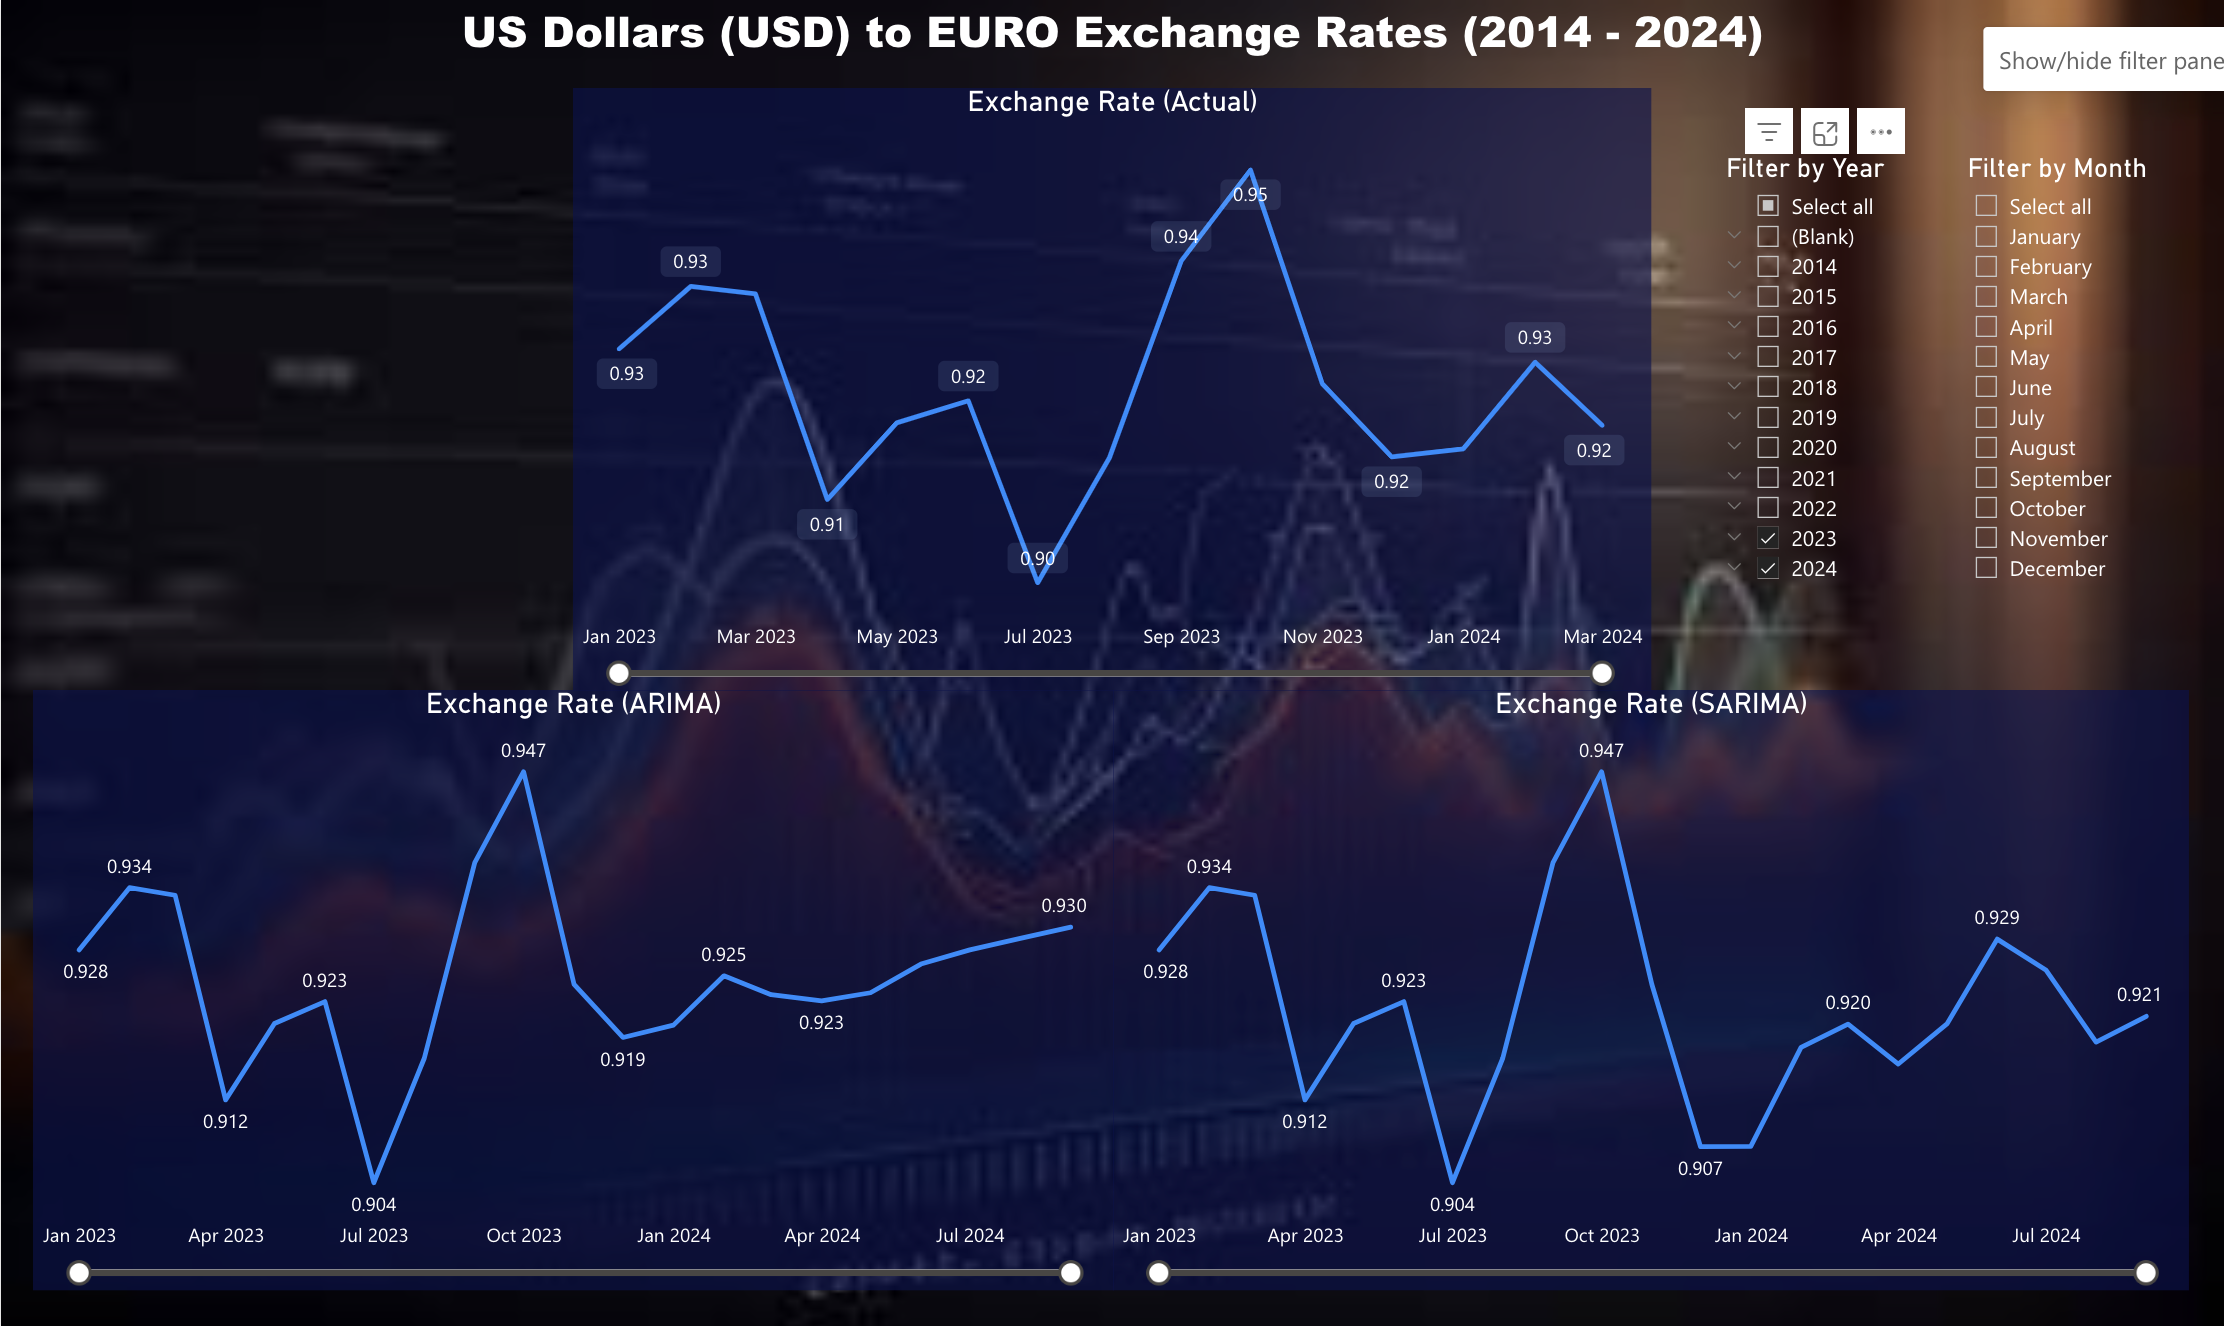

The dashboard page shown, as its layout file describes it:
{"tool":"powerbi","page":{"name":"Euro","canvas":[1400,840],"ordinal":1},"visuals":[{"type":"lineChart","title":"Exchange Rate (Actual)","fields":{"Category":["eurom.Date.Variation.Date Hierarchy.Year"],"Y":["Sum(eurom.Ex_rate)"]},"box":[359.8,55.8,679.1,379.3],"z":0},{"type":"lineChart","title":"Exchange Rate (ARIMA)","fields":{"Y":["Sum(euro_arima_forecasts.Exchange Rate)"],"Category":["euro_arima_forecasts.Date.Variation.Date Hierarchy.Year","euro_arima_forecasts.Date.Variation.Date Hierarchy.Quarter","euro_arima_forecasts.Date.Variation.Date Hierarchy.Month","euro_arima_forecasts.Date.Variation.Date Hierarchy.Day"]},"box":[19.5,435.1,680.5,377.9],"z":1000},{"type":"lineChart","title":"Exchange Rate (SARIMA)","fields":{"Y":["Sum(euro_sarima_forecasts.Exchange Rate)"],"Category":["euro_sarima_forecasts.Date.Variation.Date Hierarchy.Year"]},"box":[700,435.1,677.7,377.9],"z":2000},{"type":"textbox","title":"US Dollars (USD) to EURO Exchange Rates (2014 - 2024)","box":[0,0,1400,68.3],"z":3000},{"type":"slicer","title":"Filter by Year","fields":{"Values":["euro_arima_forecasts.Date.Variation.Date Hierarchy.Year","euro_arima_forecasts.Date.Variation.Date Hierarchy.Quarter"]},"box":[1071.8,98.8,128.9,294.7],"z":4000},{"type":"slicer","title":"Filter by Month","fields":{"Values":["euro_arima_forecasts.Date.Variation.Date Hierarchy.Month"]},"box":[1230.9,98.8,128.9,294.7],"z":5000}]}

Visuals, with their boxes on the page's 1400x840 design canvas (x1, y1, x2, y2). These are canvas units, not pixel positions in the 2224x1326 screenshot, which may show the page scaled, cropped or inside an application window:
"Exchange Rate (Actual)" lineChart: (x1=360, y1=56, x2=1039, y2=435)
"Exchange Rate (ARIMA)" lineChart: (x1=20, y1=435, x2=700, y2=813)
"Exchange Rate (SARIMA)" lineChart: (x1=700, y1=435, x2=1378, y2=813)
"US Dollars (USD) to EURO Exchange Rates (2014 - 2024)" textbox: (x1=0, y1=0, x2=1400, y2=68)
"Filter by Year" slicer: (x1=1072, y1=99, x2=1201, y2=394)
"Filter by Month" slicer: (x1=1231, y1=99, x2=1360, y2=394)
